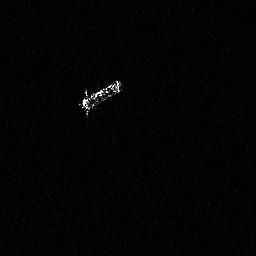ship: (75, 76, 123, 119)
